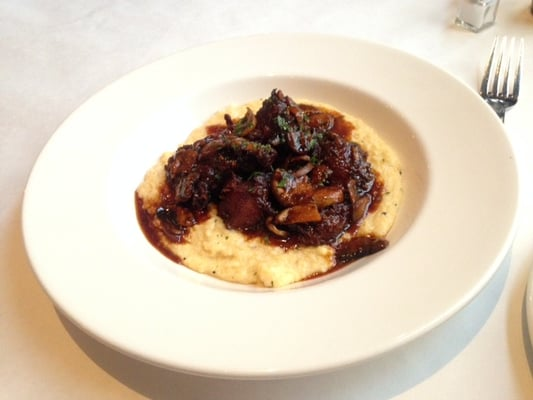burger: (481, 36, 523, 123)
